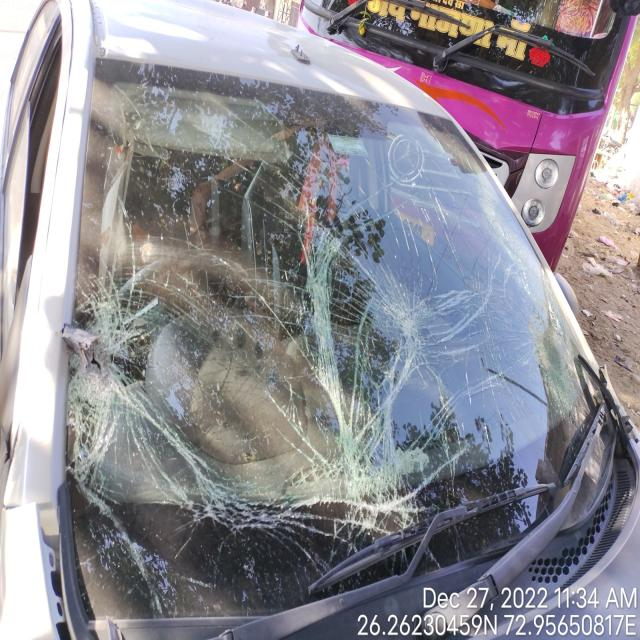damage: (62, 59, 575, 619)
